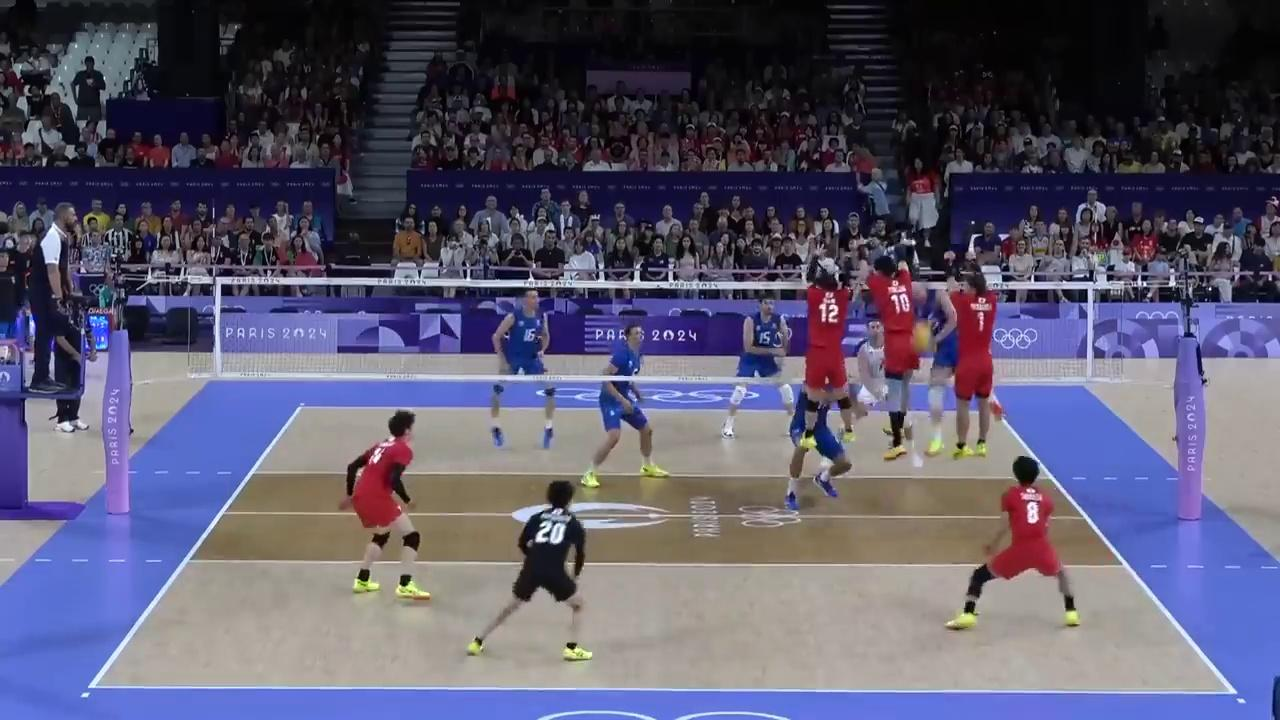ball: (912, 319, 934, 351)
